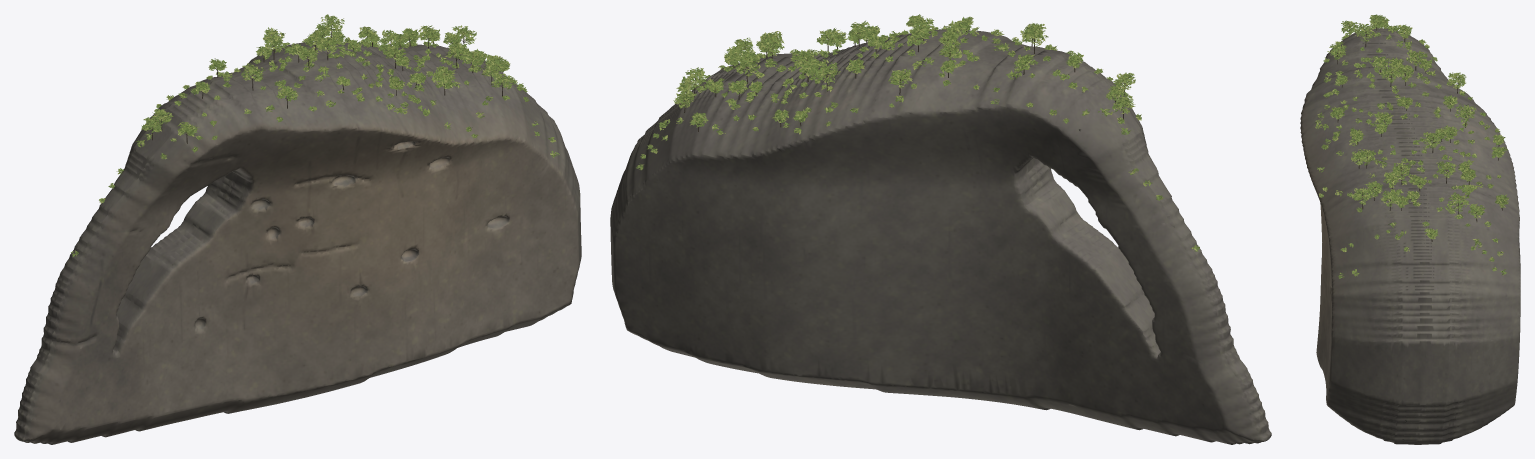
File: elephant-landform.glb
3 renders of one model, left to right at view 1: azimuth 30°, elevation 25°; view 2: azimuth 150°, elevation 25°; view 3: azimuth 270°, elevation 25°, orthographic. The views are drawn at different scales.
Visible parts, largest first — view 1: Elephant cliff | ONE connected solid, Clifftop evergreen foliage | interpreted, Woody branches; view 2: Elephant cliff | ONE connected solid, Clifftop evergreen foliage | interpreted; view 3: Elephant cliff | ONE connected solid, Clifftop evergreen foliage | interpreted, Woody branches.
Boxes of the visible parts, box(x1,y1,x2,y2) form: Elephant cliff | ONE connected solid: box(14, 41, 581, 444); Clifftop evergreen foliage | interpreted: box(71, 14, 559, 256); Woody branches: box(151, 19, 503, 143); Elephant cliff | ONE connected solid: box(610, 29, 1271, 444); Clifftop evergreen foliage | interpreted: box(636, 14, 1199, 251); Elephant cliff | ONE connected solid: box(1300, 28, 1520, 444); Clifftop evergreen foliage | interpreted: box(1315, 14, 1508, 278); Woody branches: box(1337, 22, 1503, 241).
Bounding box in the file's own units: 200 × 116 × 77.24.
Materials: 7 (1 with a texture image).
